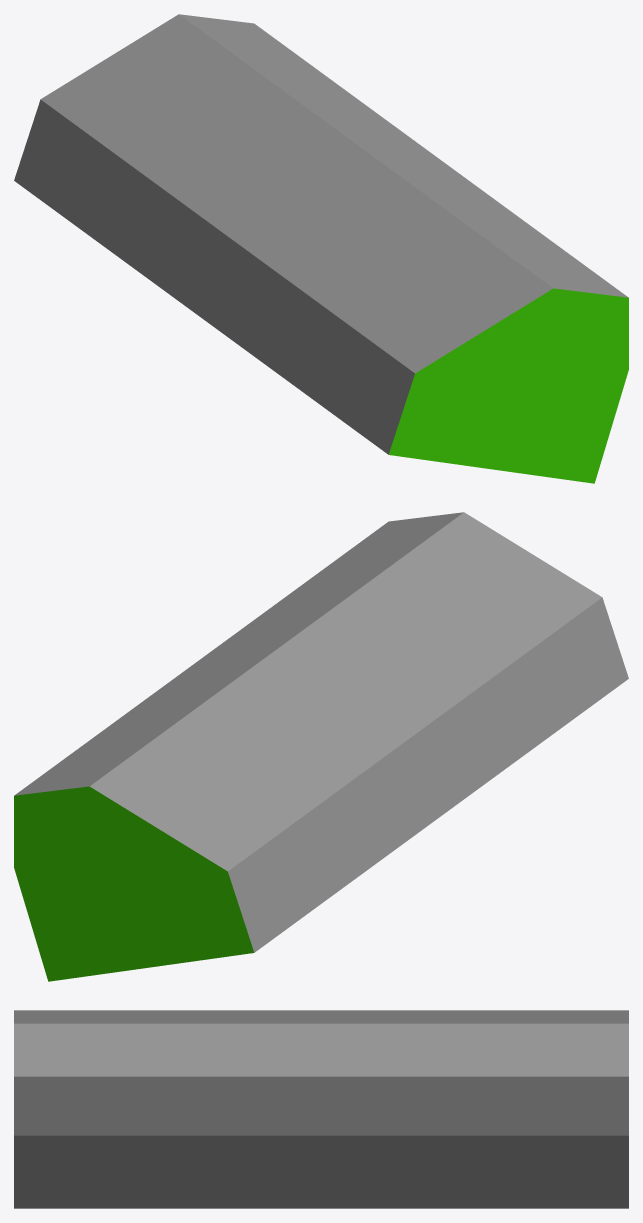
Rendered from SMB_groundDetail_A.fbx.
The picture shows the model from 3 angles, top to bottom: view 1: azimuth 30°, elevation 25°; view 2: azimuth 150°, elevation 25°; view 3: azimuth 270°, elevation 25°; orthographic projection. The views are drawn at different scales.
Visible parts, largest first — view 1: SMB_groundDetail_A; view 2: SMB_groundDetail_A; view 3: SMB_groundDetail_A.
Boxes of the visible parts, x1,y1,x2,y2 form: SMB_groundDetail_A: (14,14,628,483); SMB_groundDetail_A: (14,512,628,981); SMB_groundDetail_A: (14,1010,628,1208).
Size of the model in its own units: 370 by 302 by 1000.
